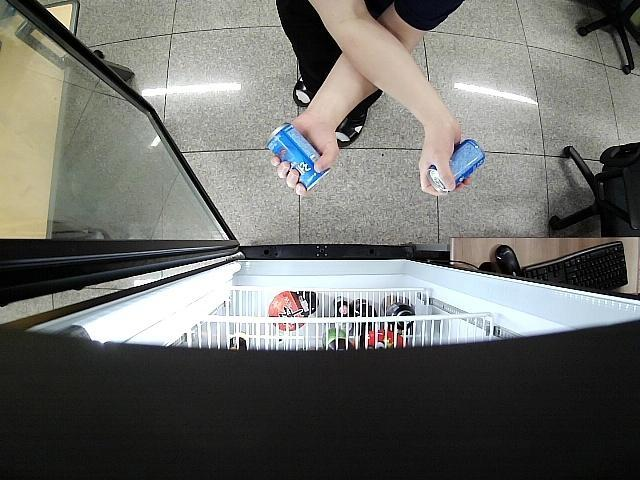15_letsbe: (266, 122, 332, 190), (430, 139, 487, 194)
